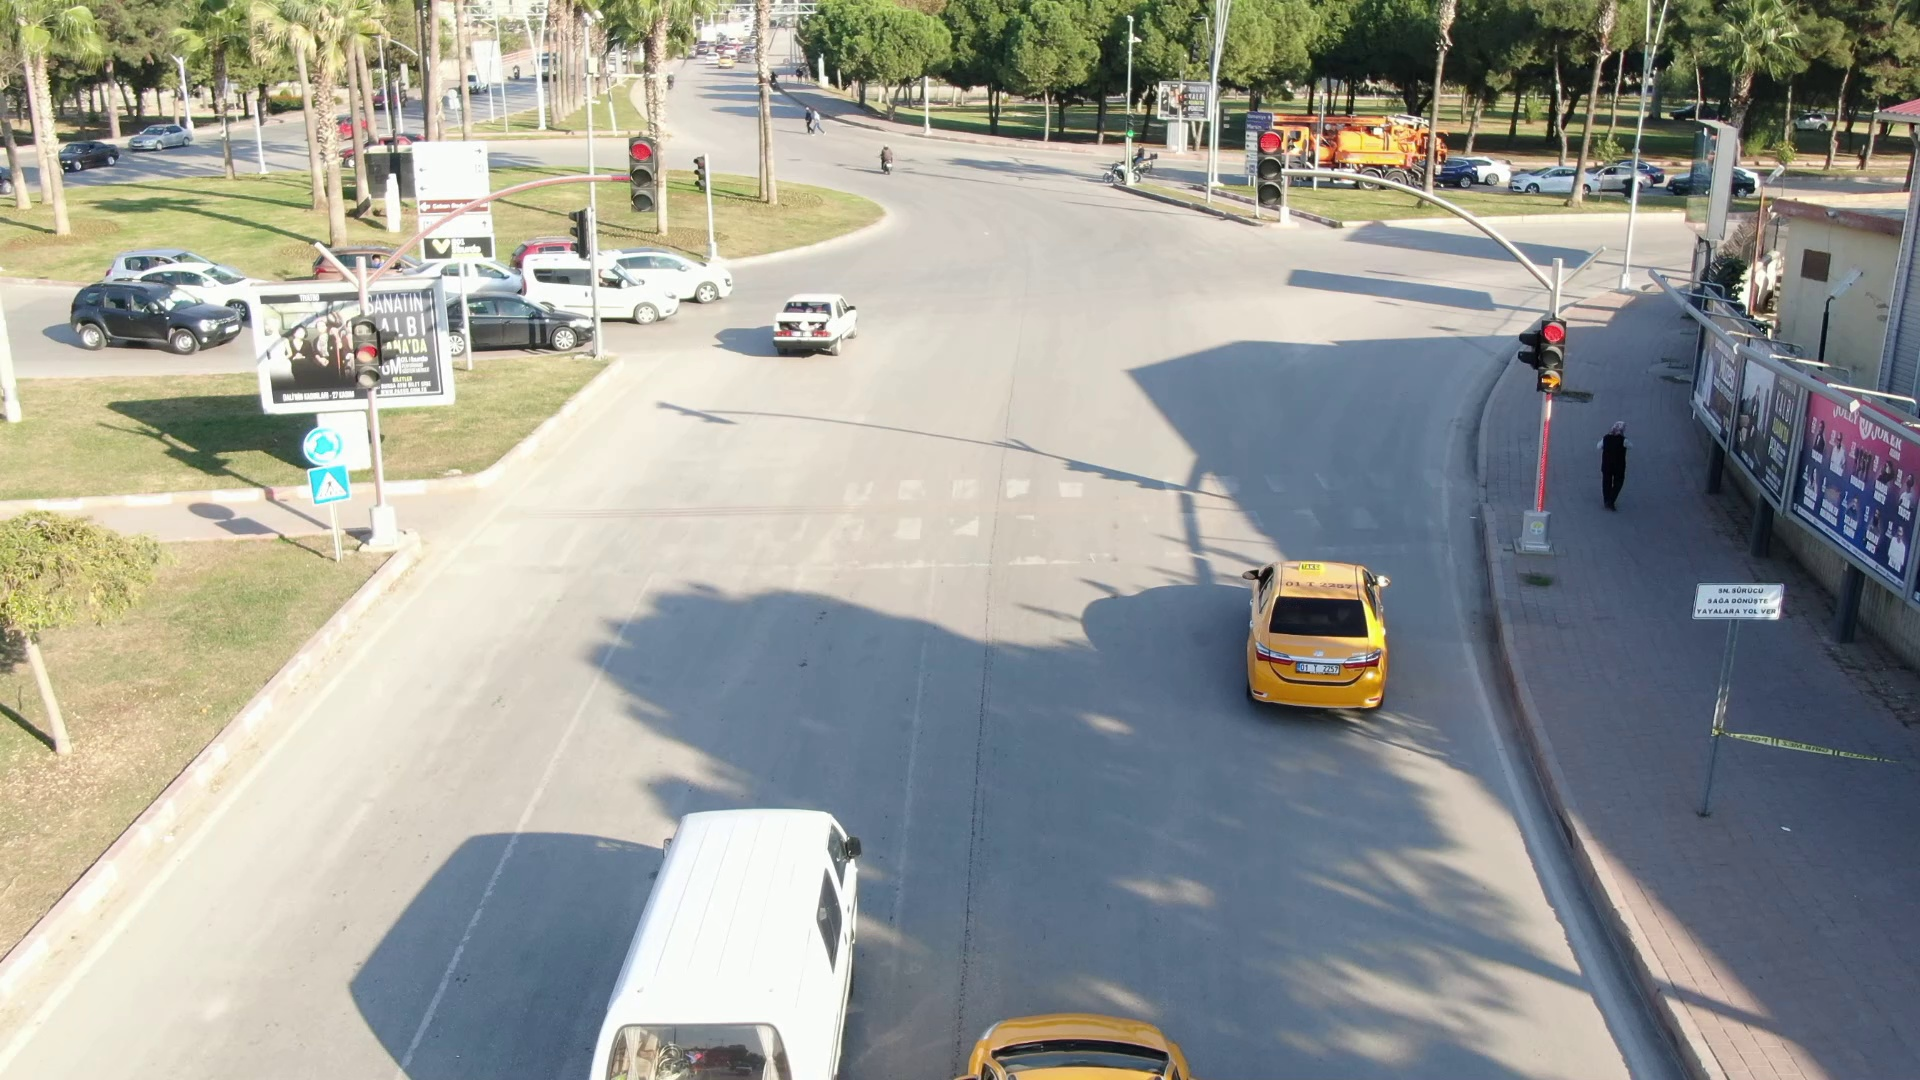car: (559, 800, 882, 1070), (1233, 535, 1404, 723), (55, 268, 247, 354), (510, 247, 694, 315), (451, 286, 600, 345), (766, 294, 868, 355)
person: (1586, 410, 1635, 517), (872, 145, 902, 174)
